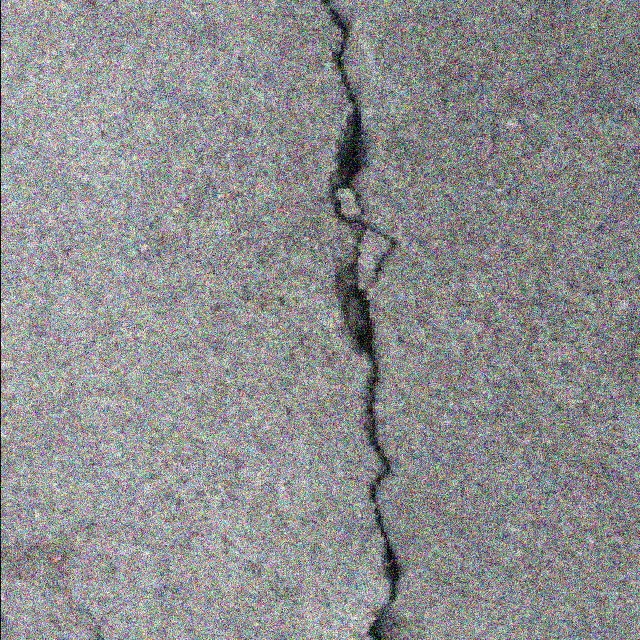SurfaceCrack: (294, 0, 434, 640)
